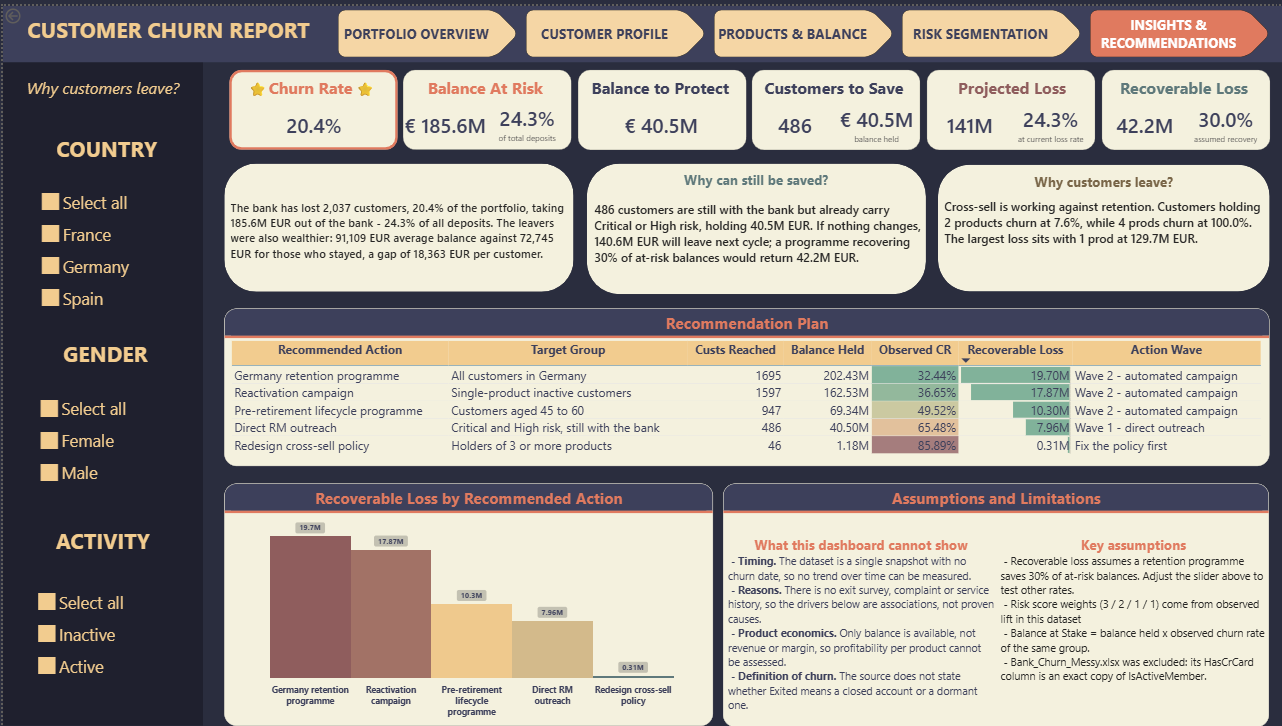

What the dashboard file says about the page in this screenshot:
{"tool":"powerbi","page":{"name":"INSIGHTS & RECOMMENDATIONS","canvas":[2560,1440],"ordinal":4},"visuals":[{"type":"group","id":"g1","title":"Group 2","box":[0,78,400,1362],"z":0},{"type":"shape","box":[1167.5,315,678.3,261.7],"z":0,"group":"g11"},{"type":"shape","box":[1870,317.5,663.2,253.3],"z":0,"group":"g12"},{"type":"textbox","box":[451.9,324.4,678.3,56.7],"z":0,"group":"g13"},{"type":"shape","box":[0,78,400,1362],"z":500,"group":"g1"},{"type":"shape","box":[0,0,2560,112.5],"z":1000},{"type":"shape","box":[1146.9,128,337,160.6],"z":1000,"group":"g5"},{"type":"shape","box":[799,128.5,337,160.1],"z":1000,"group":"g4"},{"type":"shape","box":[1494.7,128.5,336.9,160.6],"z":1000,"group":"g6"},{"type":"shape","box":[1845.6,128.5,337,160.6],"z":1000,"group":"g7"},{"type":"shape","box":[2194.9,128.5,337,160.6],"z":1000,"group":"g8"},{"type":"shape","box":[450.6,129.2,337,160.2],"z":1000,"group":"g9"},{"type":"shape","box":[442.5,315,698.8,256.7],"z":1000,"group":"g13"},{"type":"textbox","box":[1177.5,323.9,658,81.3],"z":1000,"group":"g11"},{"type":"textbox","box":[1880,326.4,643.3,58.3],"z":1000,"group":"g12"},{"type":"pageNavigator","box":[670,8.3,1866.7,95],"z":2000},{"type":"cardVisual","fields":{"Data":["_Measures.Insight 2 Product"]},"box":[1878.3,376.4,646.7,195],"z":2000,"group":"g12"},{"type":"cardVisual","fields":{"Data":["_Measures.Insight 1 Scale"]},"box":[450.3,379.4,681.7,195],"z":2000,"group":"g13"},{"type":"cardVisual","fields":{"Data":["_Measures.Insight 3 Action"]},"box":[1176.9,382.5,665,195],"z":2000,"group":"g11"},{"type":"group","id":"g2","title":"Group 5","box":[0,12.5,662.5,90],"z":3000},{"type":"textbox","box":[67.5,250,280,87.5],"z":3000,"group":"g1"},{"type":"group","id":"g3","title":"Group 4","box":[444,128,2088,164],"z":4000},{"type":"actionButton","box":[0,0,100,40],"z":5000},{"type":"group","id":"g4","title":"Group 1","box":[792.4,128.5,343.7,160.1],"z":5000,"group":"g3"},{"type":"textbox","box":[1140.3,137.6,343.7,73.5],"z":5000,"group":"g5"},{"type":"textbox","box":[792.4,138,343.7,73.3],"z":5000,"group":"g4"},{"type":"textbox","box":[1488.1,138.1,343.6,73.5],"z":5000,"group":"g6"},{"type":"textbox","box":[2188.3,138.1,343.7,73.5],"z":5000,"group":"g8"},{"type":"textbox","box":[444,138.7,343.7,73.3],"z":5000,"group":"g9"},{"type":"textbox","box":[1848.5,139.5,336,70],"z":5000,"group":"g7"},{"type":"slicer","fields":{"Values":["Dim_Geography.Geography"]},"box":[65,360,280,265],"z":5000,"group":"g1"},{"type":"group","id":"g5","title":"Group 1","box":[1140.3,128,344.1,160.6],"z":6000,"group":"g16"},{"type":"group","id":"g6","title":"Group 1","box":[1488.1,128.5,343.6,160.6],"z":6000,"group":"g15"},{"type":"group","id":"g7","title":"Group 1","box":[1845.6,128.5,338.9,162.3],"z":6000,"group":"g18"},{"type":"group","id":"g8","title":"Group 1","box":[2188.3,128.5,343.7,160.6],"z":6000,"group":"g17"},{"type":"group","id":"g9","title":"Group 1","box":[444,129.2,344.7,162.8],"z":6000,"group":"g10"},{"type":"group","id":"g10","title":"Group 3","box":[444,129.2,344.7,162.8],"z":6000,"group":"g3"},{"type":"group","id":"g11","title":"Group 7","box":[1167.5,315,680,262.5],"z":6000},{"type":"group","id":"g12","title":"Group 8","box":[1870,317.5,662.5,255],"z":7000},{"type":"group","id":"g13","title":"Group 6","box":[442.5,315,700,260],"z":8000},{"type":"textbox","box":[67.5,660,275,87.5],"z":8000,"group":"g1"},{"type":"tableEx","title":"Recommendation Plan","fields":{"Values":["Dim_Action.Recommended Action","Dim_Action.Target Group","_Measures.Customers Reached","_Measures.Balance Held","_Measures.Observed Churn Rate","_Measures.Recoverable Loss by Action","_Measures.Action Wave"]},"box":[442.5,605,2090,315],"z":9000},{"type":"slicer","fields":{"Values":["Dim_Gender.Gender"]},"box":[62.5,772.5,275,205],"z":9000,"group":"g1"},{"type":"clusteredColumnChart","title":"Recoverable Loss by Recommended Action","fields":{"Category":["Dim_Action.Recommended Action"],"Y":["_Measures.Recoverable Loss by Action"]},"box":[442.5,955,977.5,485],"z":10000},{"type":"textbox","box":[0,137.5,400,130],"z":11000,"group":"g1"},{"type":"group","id":"g14","title":"Group 9","box":[1440,955,1092.5,485],"z":11000},{"type":"textbox","box":[0,12.5,662.5,90],"z":12000,"group":"g2"},{"type":"group","id":"g15","title":"Group 3","box":[1488.1,128.5,343.6,160.6],"z":12000,"group":"g3"},{"type":"clusteredBarChart","title":"Assumptions and Limitations","box":[1440,955,1091.9,487.4],"z":12000,"group":"g14"},{"type":"group","id":"g16","title":"Group 3","box":[1140.3,128,344.1,160.6],"z":13000,"group":"g3"},{"type":"textbox","box":[60,1035,280,87],"z":13000,"group":"g1"},{"type":"textbox","box":[1444.6,1054.4,542.5,384.8],"z":13000,"group":"g14"},{"type":"group","id":"g17","title":"Group 3","box":[2188.3,128.5,343.7,160.6],"z":14000,"group":"g3"},{"type":"textbox","box":[1989.4,1054.4,542.5,384.8],"z":14000,"group":"g14"},{"type":"slicer","fields":{"Values":["Dim_ActivityStatus.Activity_Status"]},"box":[57.5,1160,280,197.5],"z":15000,"group":"g1"},{"type":"group","id":"g18","title":"Group 3","box":[1845.6,128.5,338.9,162.3],"z":16000,"group":"g3"},{"type":"cardVisual","fields":{"Data":["_Measures.Churn Rate %"]},"box":[454.6,184.9,334.1,107.1],"z":16000,"group":"g9"},{"type":"cardVisual","fields":{"Data":["_Measures.Balance at Risk","_Measures.Balance at Risk %"]},"box":[796.3,185.7,338.1,101.1],"z":16000,"group":"g4"},{"type":"cardVisual","fields":{"Data":["_Measures.Customers to Save","_Measures.Balance to Protect"]},"box":[1494.6,185.7,336.1,103.1],"z":16000,"group":"g6"},{"type":"cardVisual","fields":{"Data":["_Measures.Projected Loss","_Measures.Balance at Risk %"]},"box":[1845.7,185.7,334.1,105.1],"z":16000,"group":"g7"},{"type":"cardVisual","fields":{"Data":["_Measures.Recoverable Loss","_Measures.Recovery Rate Value"]},"box":[2196.2,185.7,334.1,103.1],"z":16000,"group":"g8"},{"type":"cardVisual","fields":{"Data":["_Measures.Balance to Protect"]},"box":[1146.3,186.2,338.1,101.1],"z":16000,"group":"g5"}]}

Visuals, with their boxes in screenshot pixels (x1, y1, x2, y2), scaled from the page's 2560x1440 canvas onto the 1282x726 screenshot:
"Group 2" group: 0, 39, 200, 725
shape: 585, 159, 924, 291
shape: 936, 160, 1269, 288
textbox: 226, 164, 566, 192
shape: 0, 39, 200, 725
shape: 0, 0, 1281, 57
shape: 574, 65, 743, 146
shape: 400, 65, 569, 146
shape: 749, 65, 917, 146
shape: 924, 65, 1093, 146
shape: 1099, 65, 1268, 146
shape: 226, 65, 394, 146
shape: 222, 159, 572, 288
textbox: 590, 163, 919, 204
textbox: 941, 165, 1264, 194
pageNavigator: 336, 4, 1270, 52
cardVisual - _Measures.Insight 2 Product: 941, 190, 1264, 288
cardVisual - _Measures.Insight 1 Scale: 226, 191, 567, 290
cardVisual - _Measures.Insight 3 Action: 589, 193, 922, 291
"Group 5" group: 0, 6, 332, 52
textbox: 34, 126, 174, 170
"Group 4" group: 222, 65, 1268, 147
actionButton: 0, 0, 50, 20
"Group 1" group: 397, 65, 569, 146
textbox: 571, 69, 743, 106
textbox: 397, 70, 569, 107
textbox: 745, 70, 917, 107
textbox: 1096, 70, 1268, 107
textbox: 222, 70, 394, 107
textbox: 926, 70, 1094, 106
slicer - Dim_Geography.Geography: 33, 182, 173, 315
"Group 1" group: 571, 65, 743, 146
"Group 1" group: 745, 65, 917, 146
"Group 1" group: 924, 65, 1094, 147
"Group 1" group: 1096, 65, 1268, 146
"Group 1" group: 222, 65, 395, 147
"Group 3" group: 222, 65, 395, 147
"Group 7" group: 585, 159, 925, 291
"Group 8" group: 936, 160, 1268, 289
"Group 6" group: 222, 159, 572, 290
textbox: 34, 333, 172, 377
"Recommendation Plan" tableEx: 222, 305, 1268, 464
slicer - Dim_Gender.Gender: 31, 389, 169, 493
"Recoverable Loss by Recommended Action" clusteredColumnChart: 222, 481, 711, 725
textbox: 0, 69, 200, 135
"Group 9" group: 721, 481, 1268, 725
textbox: 0, 6, 332, 52
"Group 3" group: 745, 65, 917, 146
"Assumptions and Limitations" clusteredBarChart: 721, 481, 1268, 725
"Group 3" group: 571, 65, 743, 146
textbox: 30, 522, 170, 566
textbox: 723, 532, 995, 725
"Group 3" group: 1096, 65, 1268, 146
textbox: 996, 532, 1268, 725
slicer - Dim_ActivityStatus.Activity_Status: 29, 585, 169, 684
"Group 3" group: 924, 65, 1094, 147
cardVisual - _Measures.Churn Rate %: 228, 93, 395, 147
cardVisual - _Measures.Balance at Risk x _Measures.Balance at Risk %: 399, 94, 568, 145
cardVisual - _Measures.Customers to Save x _Measures.Balance to Protect: 748, 94, 917, 146
cardVisual - _Measures.Projected Loss x _Measures.Balance at Risk %: 924, 94, 1092, 147
cardVisual - _Measures.Recoverable Loss x _Measures.Recovery Rate Value: 1100, 94, 1267, 146
cardVisual - _Measures.Balance to Protect: 574, 94, 743, 145
